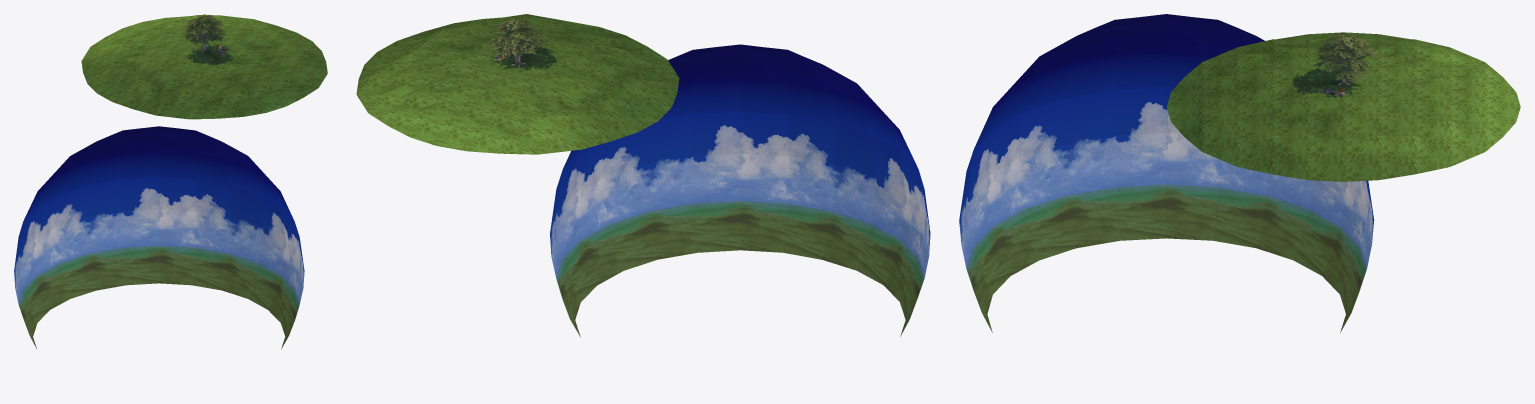
File: MAP212.gltf
3 views of the same model, side by side, from view 1: azimuth 30°, elevation 25°; view 2: azimuth 150°, elevation 25°; view 3: azimuth 270°, elevation 25° (orthographic). The views are drawn at different scales.
Size of the model in its own units: 812 by 566 by 812.
12 materials, 12 textured.
